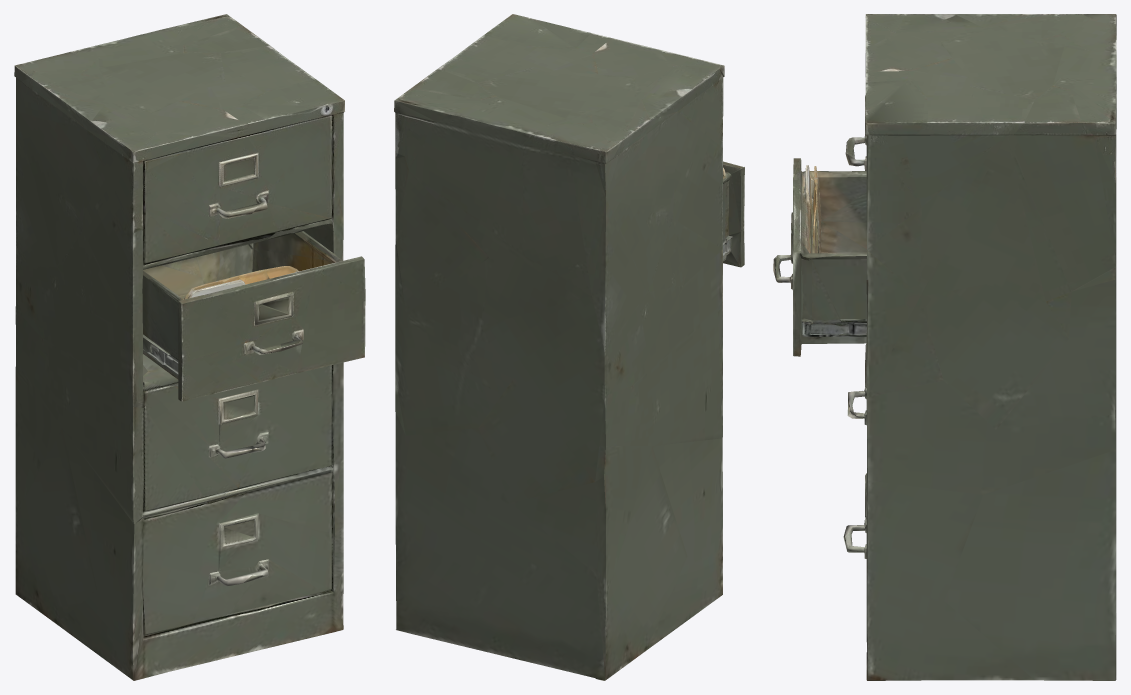
File: filing_cabinet.glb
3 views of the same model, side by side, from view 1: azimuth 30°, elevation 25°; view 2: azimuth 150°, elevation 25°; view 3: azimuth 270°, elevation 25° (orthographic). The views are drawn at different scales.
Parts seen in each view (by area): view 1: filing_cabinet; view 2: filing_cabinet; view 3: filing_cabinet.
Boxes of the visible parts, x1=… form: filing_cabinet: x1=14, y1=14, x2=365, y2=680; filing_cabinet: x1=394, y1=14, x2=744, y2=680; filing_cabinet: x1=773, y1=14, x2=1116, y2=680.
Size of the model in its own units: 0.5663 by 1.35 by 0.7516.
Materials: 1 (1 with a texture image).
